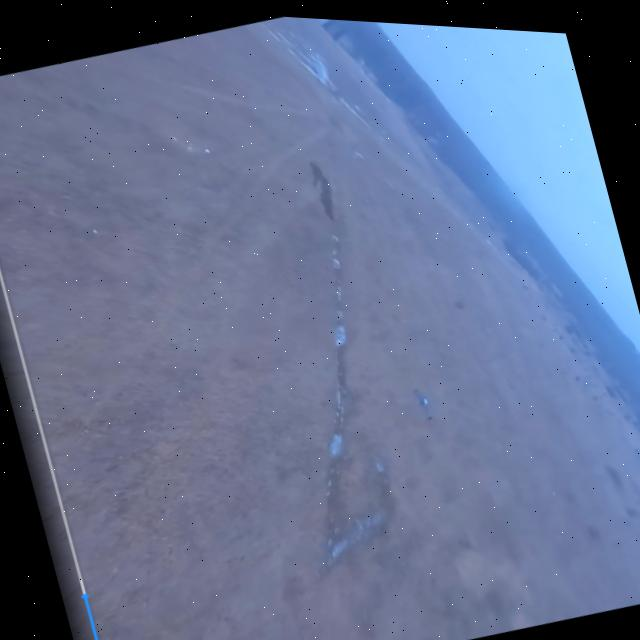planedrone: (407, 377, 443, 426)
